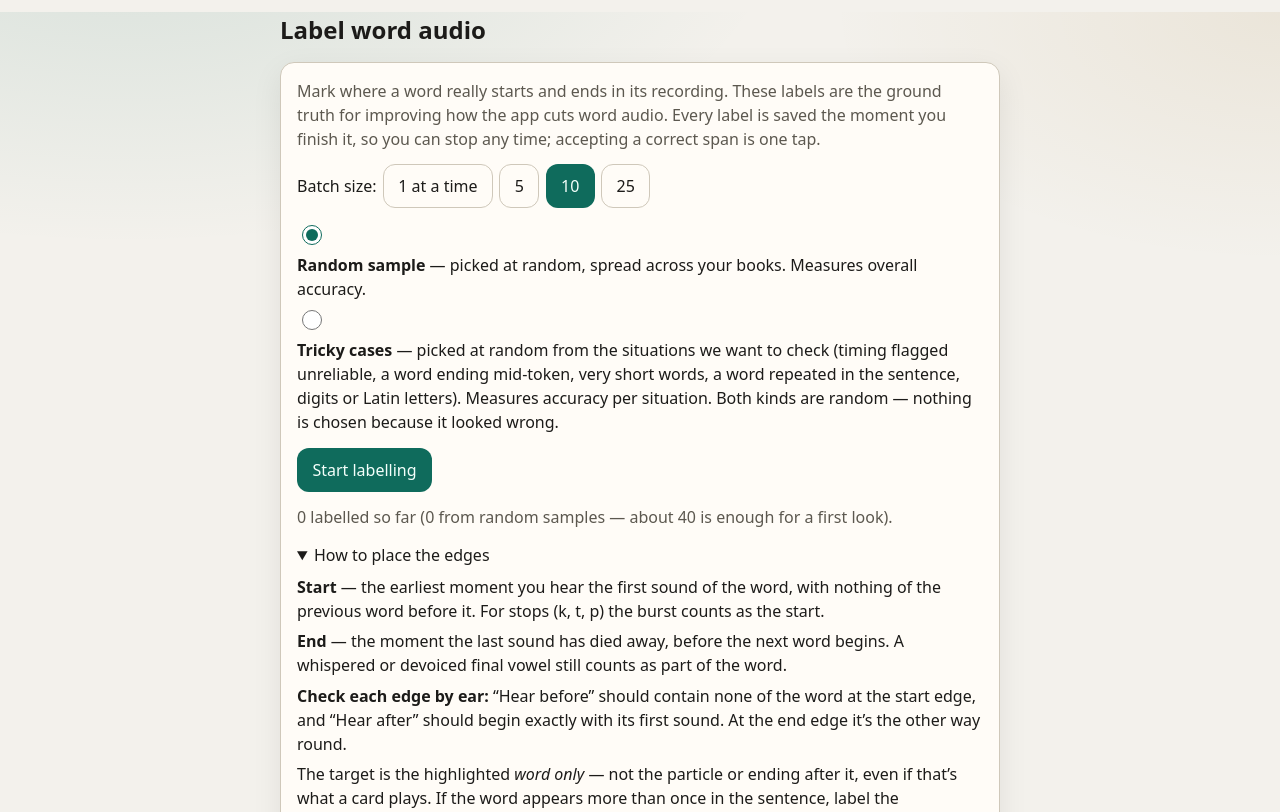
Scenario: LabelWordAudioPage › explains the empty case instead of showing a blank screen
Click the button "Start labelling".
click(364, 470)  # box [297,448,432,492]
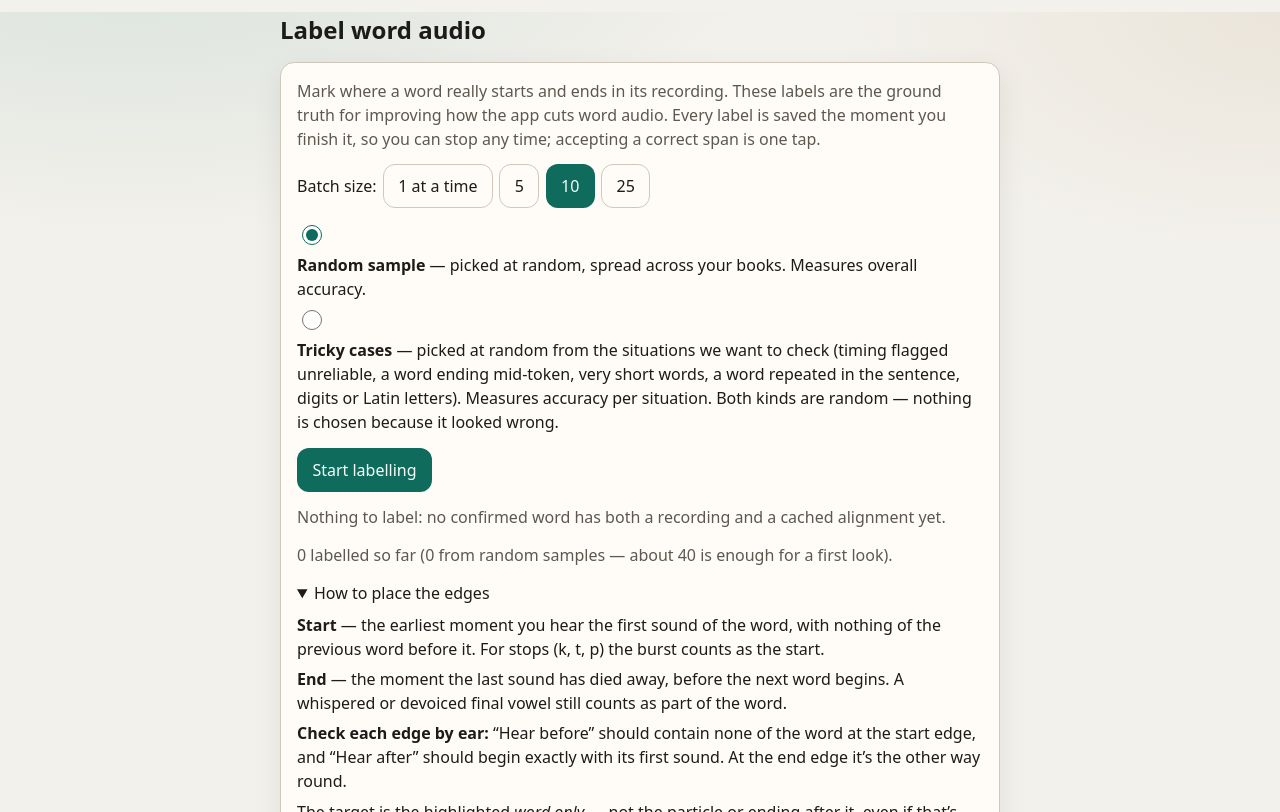
Now the text "Nothing to label" is shown, box [297,506,946,528]
